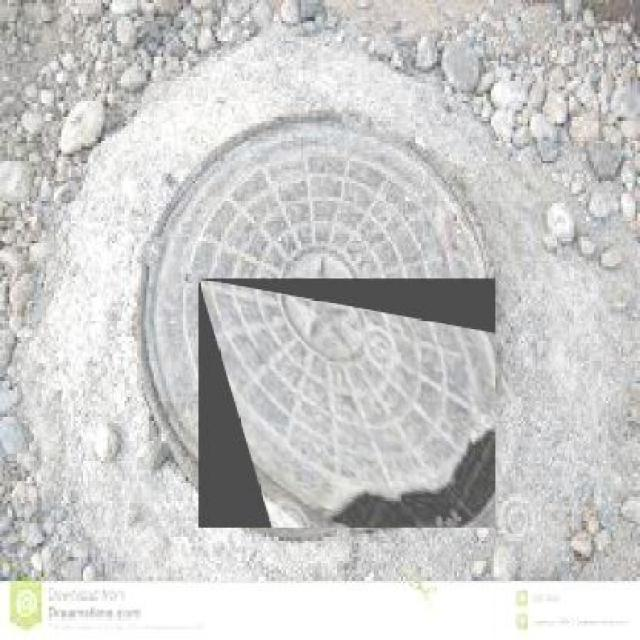Manhole: (198, 280, 496, 528), (139, 95, 520, 279)
